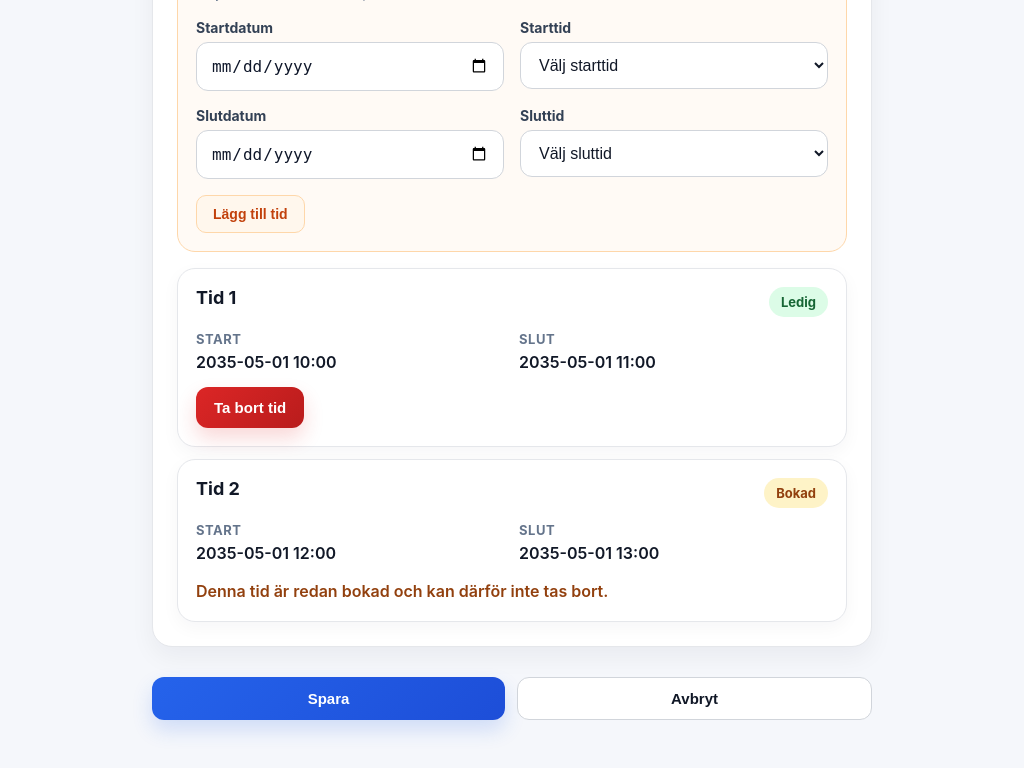
Test case: EditServicePage › kan ta bort obokad tid
(page scrolled)
expect the heading "Tid 1" is shown: met, box x1=196 y1=287 x2=236 y2=308
Click the button "Ta bort tid": (250, 408) x1=196 y1=387 x2=304 y2=428
(page scrolled)
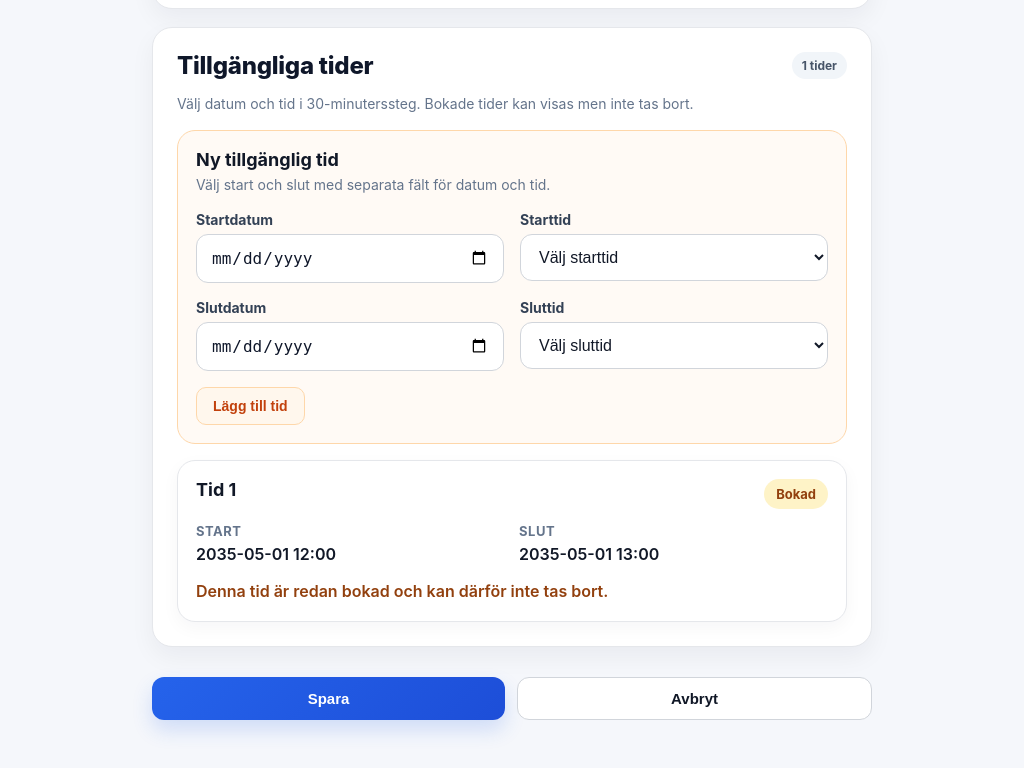
expect the heading "Tid 1" is shown: met, box x1=196 y1=479 x2=236 y2=500
expect the heading "Tid 2" is gone: met
expect the text "Bokad" is shown: met, box x1=764 y1=479 x2=828 y2=509
